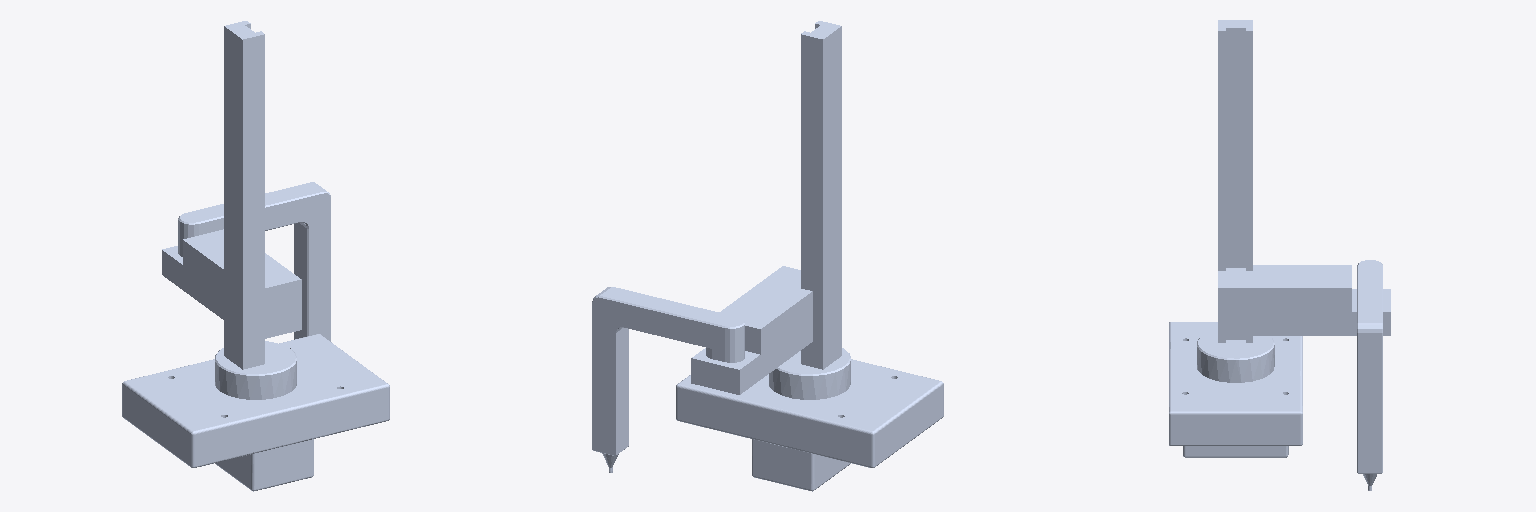
URDF robot description (mobile_printer):
<?xml version="1.0" ?>

<robot name="mobile_printer" xmlns:xacro="http://www.ros.org/wiki/xacro">
  
  <gazebo reference="base_link">
    <material>Gazebo/Orange</material>
  </gazebo>
  
  <gazebo reference="shoulder_link">
    <material>Gazebo/Red</material>
  </gazebo>

  <gazebo reference="prism_link">
    <material>Gazebo/Orange</material>
  </gazebo>
  
  <gazebo reference="elbow_link">
    <material>Gazebo/Blue</material>
  </gazebo>

  <!-- Import Rviz colors -->
  <material name="black">
    <color rgba="0.0 0.0 0.0 1.0"/>
  </material>
  <material name="blue">
    <color rgba="0.0 0.0 0.8 1.0"/>
  </material>
  <material name="green">
    <color rgba="0.0 0.8 0.0 1.0"/>
  </material>
  <material name="grey">
    <color rgba="0.2 0.2 0.2 1.0"/>
  </material>
  <material name="orange">
    <color rgba="1.0 0.423529411765 0.0392156862745 1.0"/>
  </material>
  <material name="brown">
    <color rgba="0.870588235294 0.811764705882 0.764705882353 1.0"/>
  </material>
  <material name="red">
    <color rgba="0.8 0.0 0.0 1.0"/>
  </material>
  <material name="white">
    <color rgba="1.0 1.0 1.0 1.0"/>
  </material>
  
<link name="base_link">
    <inertial>
      <origin
        xyz="0 0 0.348"
        rpy="0 0 0" />
      <mass
        value="213.62" />
      <inertia
        ixx="5.60770884492841"
        ixy="0"
        ixz="0"
        iyy="1"
        iyz="-13.6550522201205"
        izz="1" />
    </inertial>
    <visual>
      <origin
        xyz="0 0 0.348"
        rpy="0 0 0" />
      <geometry>
        <mesh
          filename="package://mobile_printer/meshes/MPO_700_body_simple.SLDPRT.STL" />
      </geometry>
      <material
        name="">
        <color
          rgba="0.86667 0.9098 1 1" />
      </material>
    </visual>
    <collision>
      <origin
        xyz="0 0 0.348"
        rpy="0 0 0" />
      <geometry>
        <mesh
          filename="package://mobile_printer/meshes/MPO_700_body_simple.SLDPRT.STL" />
      </geometry>
    </collision>
  </link>

  <link
    name="shoulder_link">
    <inertial>
      <origin
        xyz="0 0 0"
        rpy="0 0 0" />
      <mass
        value="56.212" />
      <inertia
        ixx="11.663244910873"
        ixy="0"
        ixz="-0.463117260190688"
        iyy="1"
        iyz="-0.325943705018541"
        izz="1" />
    </inertial>
    <visual>
      <origin
        xyz="0 0 0"
        rpy="0 0 0" />
      <geometry>
        <mesh
          filename="package://mobile_printer/meshes/Arm_link1_simple.SLDPRT.STL" />
      </geometry>
      <material
        name="">
        <color
          rgba="0.86667 0.9098 1 1" />
      </material>
    </visual>
    <collision>
      <origin
        xyz="0 0 0"
        rpy="0 0 0" />
      <geometry>
        <mesh
          filename="package://mobile_printer/meshes/Arm_link1_simple.SLDPRT.STL" />
      </geometry>
    </collision>
  </link>

  <link
    name="prism_link">
    <inertial>
      <origin
        xyz="0 0 0"
        rpy="0 0 0" />
      <mass
        value="59.715" />
      <inertia
        ixx="1.9616662001775"
        ixy="-0.0491005071338084"
        ixz="0.00131624037987076"
        iyy="0.105829672288633"
        iyz="-1.9566286660684"
        izz="-0.105829672288633" />
    </inertial>
    <visual>
      <origin
        xyz="0 0 0"
        rpy="0 0 0" />
      <geometry>
        <mesh
          filename="package://mobile_printer/meshes/Arm_link2_simple.SLDPRT.STL" />
      </geometry>
      <material
        name="">
        <color
          rgba="0.86667 0.9098 1 1" />
      </material>
    </visual>
    <collision>
      <origin
        xyz="0 0 0"
        rpy="0 0 0" />
      <geometry>
        <mesh
          filename="package://mobile_printer/meshes/Arm_link2_simple.SLDPRT.STL" />
      </geometry>
    </collision>
  </link>

  <link
    name="elbow_link">
    <inertial>
      <origin
        xyz="0 0 0"
        rpy="0 0 0" />
      <mass
        value="31.843" />
      <inertia
        ixx="1.14535612773492"
        ixy="0"
        ixz="-0.625467963004431"
        iyy="1"
        iyz="-1.14069726824125"
        izz="1" />
    </inertial>
    <visual>
      <origin
        xyz="0 0 0"
        rpy="0 0 0" />
      <geometry>
        <mesh
          filename="package://mobile_printer/meshes/Arm_link3_simple.SLDPRT.STL" />
      </geometry>
      <material
        name="">
        <color
          rgba="0.86667 0.9098 1 1" />
      </material>
    </visual>
    <collision>
      <origin
        xyz="0 0 0"
        rpy="0 0 0" />
      <geometry>
        <mesh
          filename="package://mobile_printer/meshes/Arm_link3_simple.SLDPRT.STL" />
      </geometry>
    </collision>
  </link>

   <joint name="shoulder_joint" type="continuous">
    <parent link="base_link"/>
    <child link="shoulder_link"/>
    <origin rpy="0 0 0" xyz="0 0 0.348"/>
    <axis xyz="0 0 1"/>
  </joint>

<joint name="prism_joint" type="prismatic">
    <parent link="shoulder_link"/>
    <child link="prism_link"/>
    <origin rpy="0 0 0" xyz="0.0 0 .2"/>
    <axis xyz="0 0 1"/>
    <limit effort="1000.0" lower="0.0" upper="1" velocity="0.5"/>
  </joint>

  <joint name="elbow_joint" type="continuous">
    <parent link="prism_link"/>
    <child link="elbow_link"/>
    <origin rpy="0 0 0" xyz="0.03 0.51 0.1"/>
    <axis xyz="0 0 1"/>
  </joint>

</robot>

--- Render facts (derived) ---
Views: 3 orthographic renders of the robot side by side, from view 1: azimuth 30°, elevation 25°; view 2: azimuth 150°, elevation 25°; view 3: azimuth 270°, elevation 25°.
Robot: mobile_printer — 4 links, 3 joints (2 continuous, 1 prismatic); root link base_link; default pose: all joints at 0.
Visible links, largest first — view 1: base_link, shoulder_link, elbow_link, prism_link; view 2: base_link, shoulder_link, elbow_link, prism_link; view 3: base_link, shoulder_link, prism_link, elbow_link.
Link boxes in pixels (x1=…): base_link: x1=122, y1=334, x2=389, y2=491; shoulder_link: x1=215, y1=21, x2=296, y2=399; elbow_link: x1=178, y1=182, x2=330, y2=341; prism_link: x1=162, y1=229, x2=301, y2=338; base_link: x1=676, y1=359, x2=943, y2=491; shoulder_link: x1=769, y1=21, x2=850, y2=399; elbow_link: x1=592, y1=287, x2=744, y2=472; prism_link: x1=691, y1=266, x2=812, y2=394; base_link: x1=1169, y1=322, x2=1302, y2=457; shoulder_link: x1=1197, y1=20, x2=1274, y2=382; prism_link: x1=1218, y1=265, x2=1390, y2=335; elbow_link: x1=1357, y1=260, x2=1382, y2=490.
Bounding box of the posed robot: 0.9909 × 0.8445 × 1.73 m (x, y, z).
Meshes: 4 distinct files referenced, 4 mesh visuals loaded (4 binary STL).